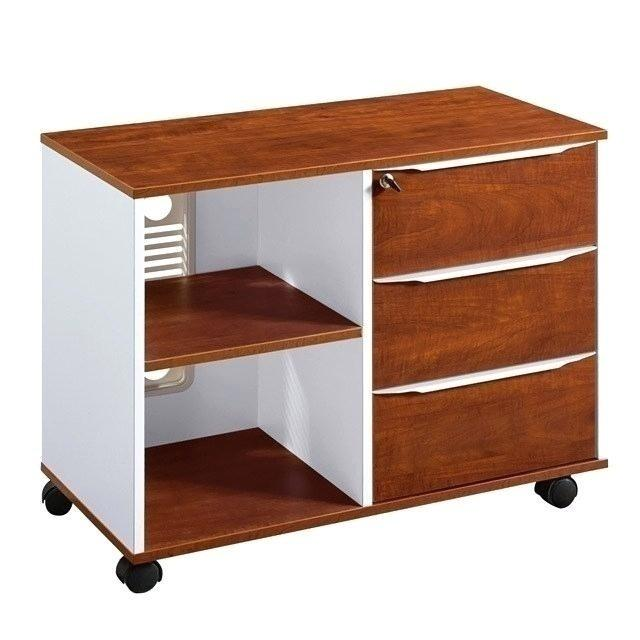cabinet_door: (373, 375, 601, 479), (376, 163, 599, 264), (375, 275, 599, 368)
handle: (370, 345, 598, 403), (375, 237, 598, 291), (371, 136, 597, 176)
